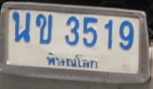txt02: (35, 13, 54, 45)
txt20: (11, 10, 32, 44)
